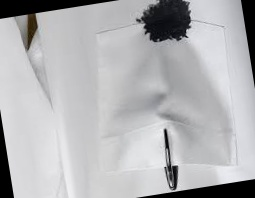ink: (140, 0, 194, 43)
